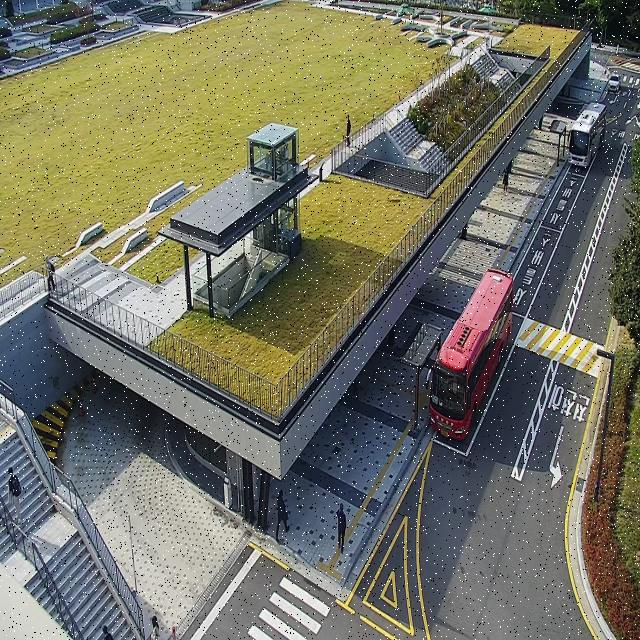queue: (413, 326, 443, 430)
